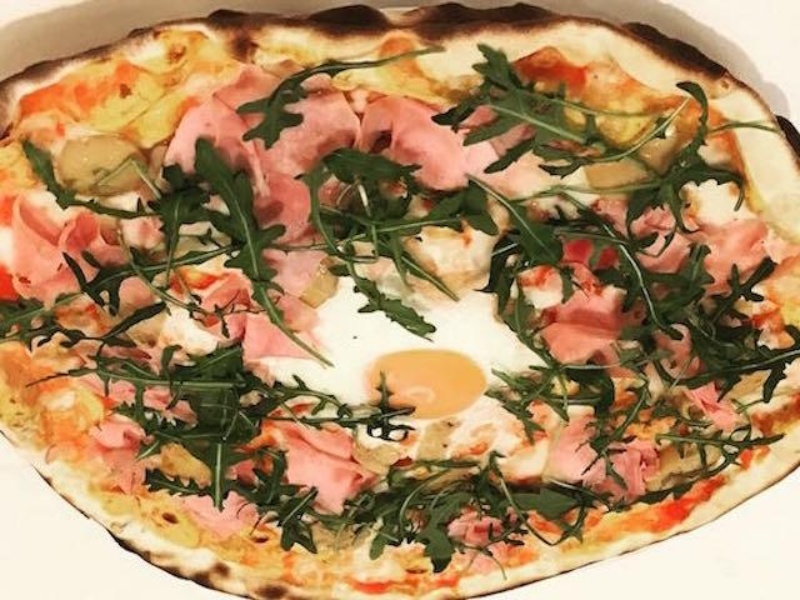oeuf: (347, 328, 492, 429)
